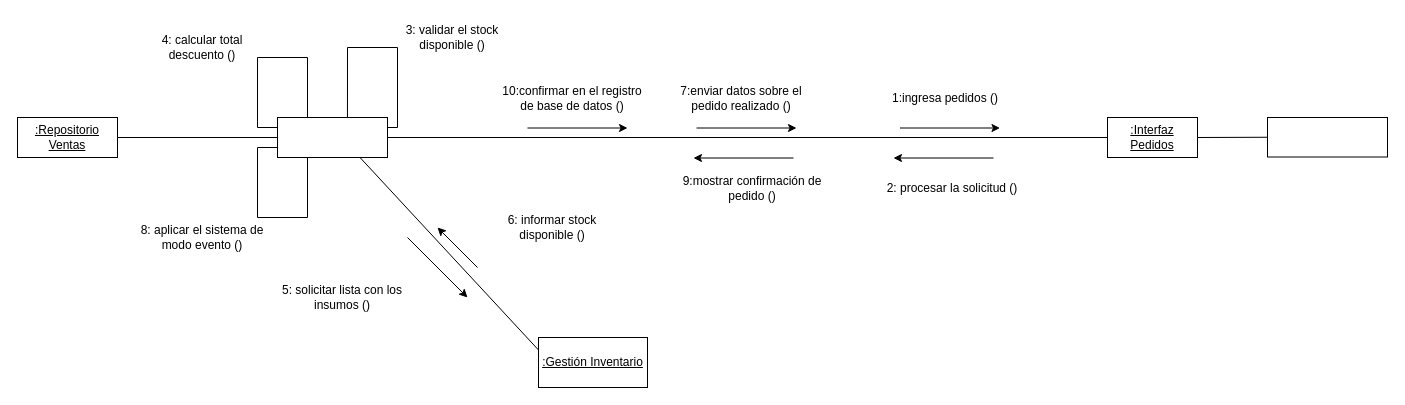
Image size: 1405x405. Some labels were removed from this diagram. The centre of each missing label's shape, as x and y in pixels:
:Controlador Pedidos: the point at 332,137
:Usuario: the point at 1327,136
